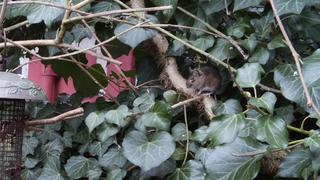mouse: (186, 66, 222, 101)
